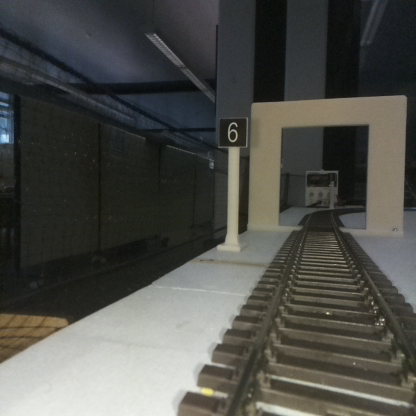black-info-6: (219, 116, 246, 248)
